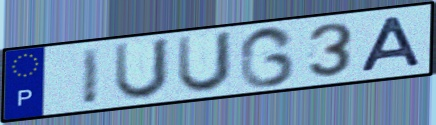3: (304, 21, 356, 80)
A: (357, 14, 425, 75)
G: (236, 24, 297, 89)
I: (79, 45, 103, 107)
U: (111, 36, 175, 102), (174, 29, 237, 96)
